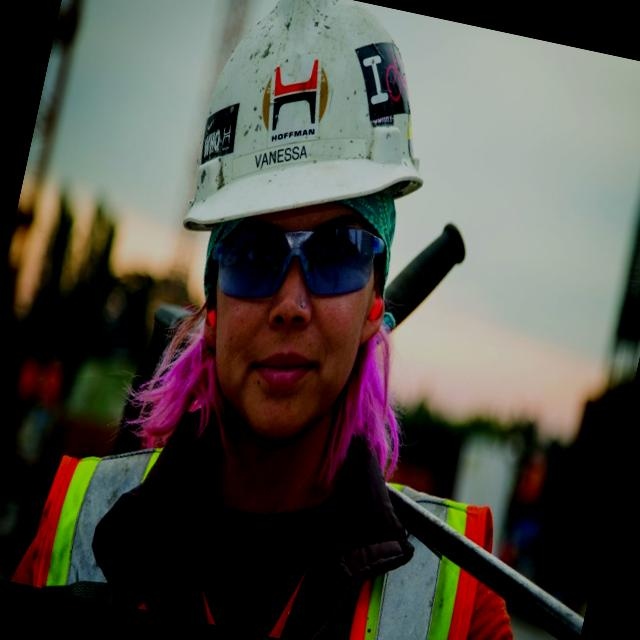goggles: (190, 186, 396, 338)
helmet: (175, 0, 459, 279)
vest: (14, 391, 513, 640)
